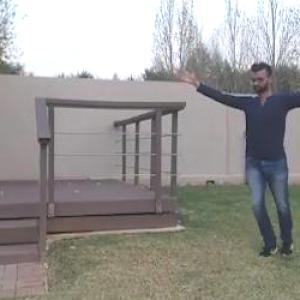takeoff: (167, 61, 299, 254)
